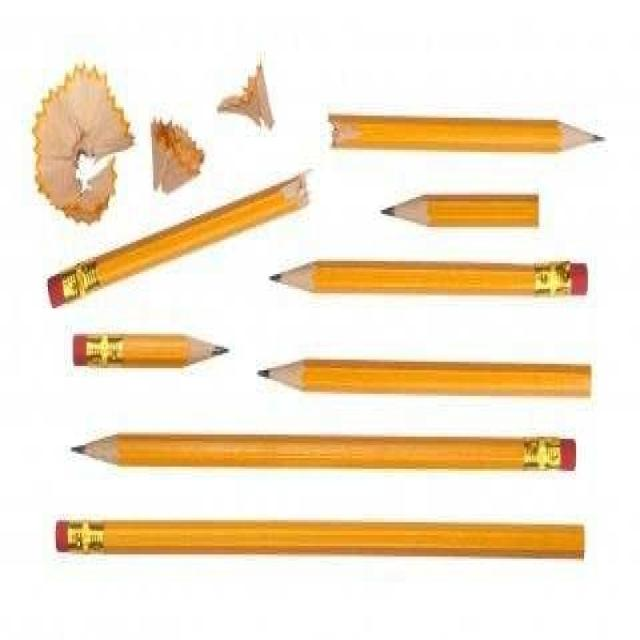pencil: (14, 147, 326, 340), (65, 416, 595, 482), (45, 513, 589, 574), (253, 236, 615, 323), (318, 93, 627, 180), (250, 348, 598, 412), (362, 171, 558, 248), (52, 329, 237, 379)
